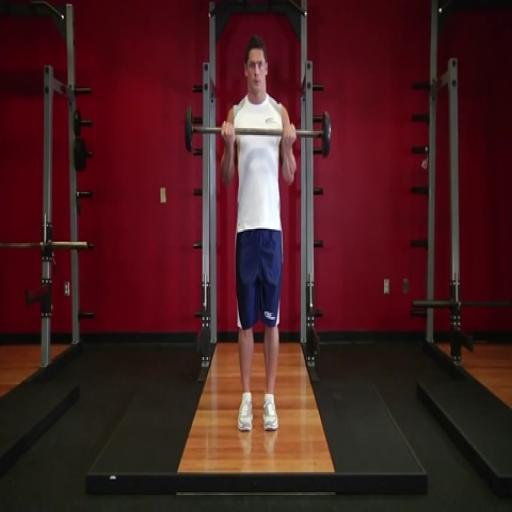exercise: (218, 34, 300, 435)
